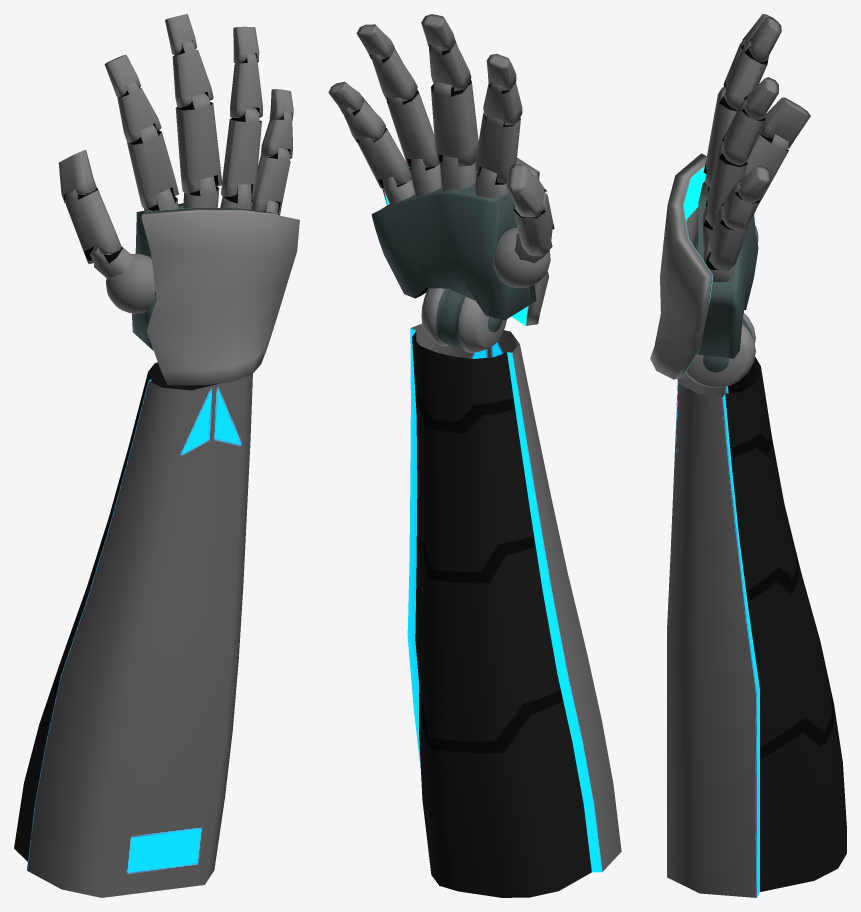
The model's file is robotic_hand_terrestrial_terminator.glb.
3 renders of one model, left to right at view 1: azimuth 30°, elevation 25°; view 2: azimuth 150°, elevation 25°; view 3: azimuth 270°, elevation 25°, orthographic. The views are drawn at different scales.
Visible parts, largest first — view 1: Arm01, Palm_Low (×2), Proxima_Middle, ThumbMetaSphere, Proxima_Ring, Proxima_Index, Proxima_Thumb, Inter_Middle, Proxima_Little, Inter_Ring, Inter_Index, Distal_Thumb (+5 smaller); view 2: Arm01, Palm_Low (×2), Proxima_Middle, Proxima_Ring, Proxima_Index, ThumbMetaSphere, Proxima_Little, Distal_Thumb, Proxima_Thumb, Inter_Ring, Inter_Middle, Inter_Index (+5 smaller); view 3: Arm01, Palm_Low (×2), Inter_Ring, Inter_Middle, Proxima_Ring, Distal_Thumb, Proxima_Little, Proxima_Thumb, Proxima_Middle, Inter_Little, Distal_Ring, Distal_Middle (+1 smaller).
Part boxes in pixels (x1=…): Arm01: x1=14, y1=362, x2=252, y2=897; Palm_Low (×2): x1=132, y1=176, x2=299, y2=385; Proxima_Middle: x1=175, y1=92, x2=222, y2=193; ThumbMetaSphere: x1=90, y1=245, x2=155, y2=313; Proxima_Ring: x1=221, y1=107, x2=261, y2=197; Proxima_Index: x1=127, y1=124, x2=178, y2=209; Proxima_Thumb: x1=65, y1=188, x2=121, y2=263; Inter_Middle: x1=172, y1=40, x2=213, y2=107; Proxima_Little: x1=251, y1=147, x2=290, y2=215; Inter_Ring: x1=230, y1=53, x2=262, y2=117; Inter_Index: x1=117, y1=81, x2=161, y2=142; Distal_Thumb: x1=58, y1=149, x2=96, y2=203; Arm01: x1=407, y1=324, x2=621, y2=897; Palm_Low (×2): x1=371, y1=155, x2=549, y2=352; Proxima_Middle: x1=431, y1=79, x2=478, y2=166; Proxima_Ring: x1=386, y1=89, x2=439, y2=167; Proxima_Index: x1=474, y1=113, x2=520, y2=183; ThumbMetaSphere: x1=495, y1=227, x2=550, y2=287; Proxima_Little: x1=358, y1=127, x2=411, y2=188; Distal_Thumb: x1=506, y1=163, x2=546, y2=217; Proxima_Thumb: x1=513, y1=191, x2=554, y2=256; Inter_Ring: x1=371, y1=48, x2=417, y2=101; Inter_Middle: x1=429, y1=40, x2=471, y2=90; Inter_Index: x1=483, y1=82, x2=522, y2=125; Arm01: x1=667, y1=357, x2=846, y2=897; Palm_Low (×2): x1=650, y1=153, x2=758, y2=387; Inter_Ring: x1=722, y1=98, x2=765, y2=165; Inter_Middle: x1=723, y1=40, x2=768, y2=110; Proxima_Ring: x1=705, y1=141, x2=747, y2=227; Distal_Thumb: x1=760, y1=97, x2=810, y2=148; Proxima_Little: x1=708, y1=205, x2=748, y2=271; Proxima_Thumb: x1=745, y1=133, x2=789, y2=203; Proxima_Middle: x1=703, y1=87, x2=737, y2=186; Inter_Little: x1=721, y1=181, x2=759, y2=231; Distal_Ring: x1=743, y1=77, x2=778, y2=119; Distal_Middle: x1=749, y1=17, x2=781, y2=62.
Size of the model in its own units: 0.7598 by 2.27 by 0.4641.
Materials: 3 (3 with a texture image).
